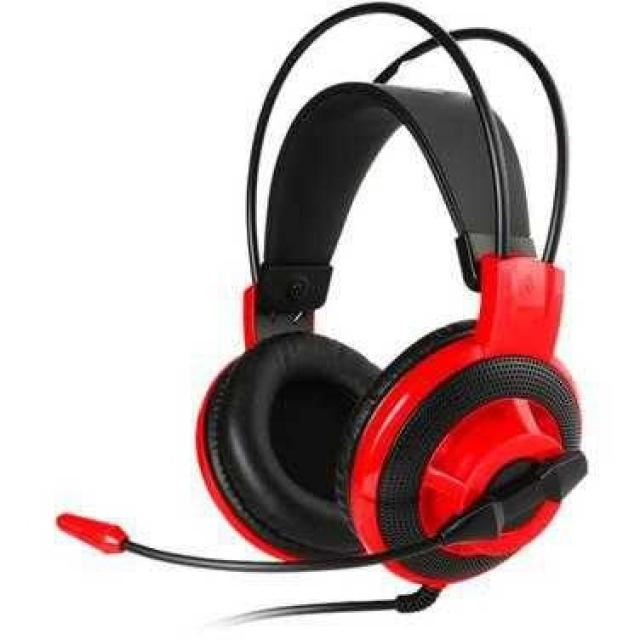microphone: (50, 507, 171, 567)
